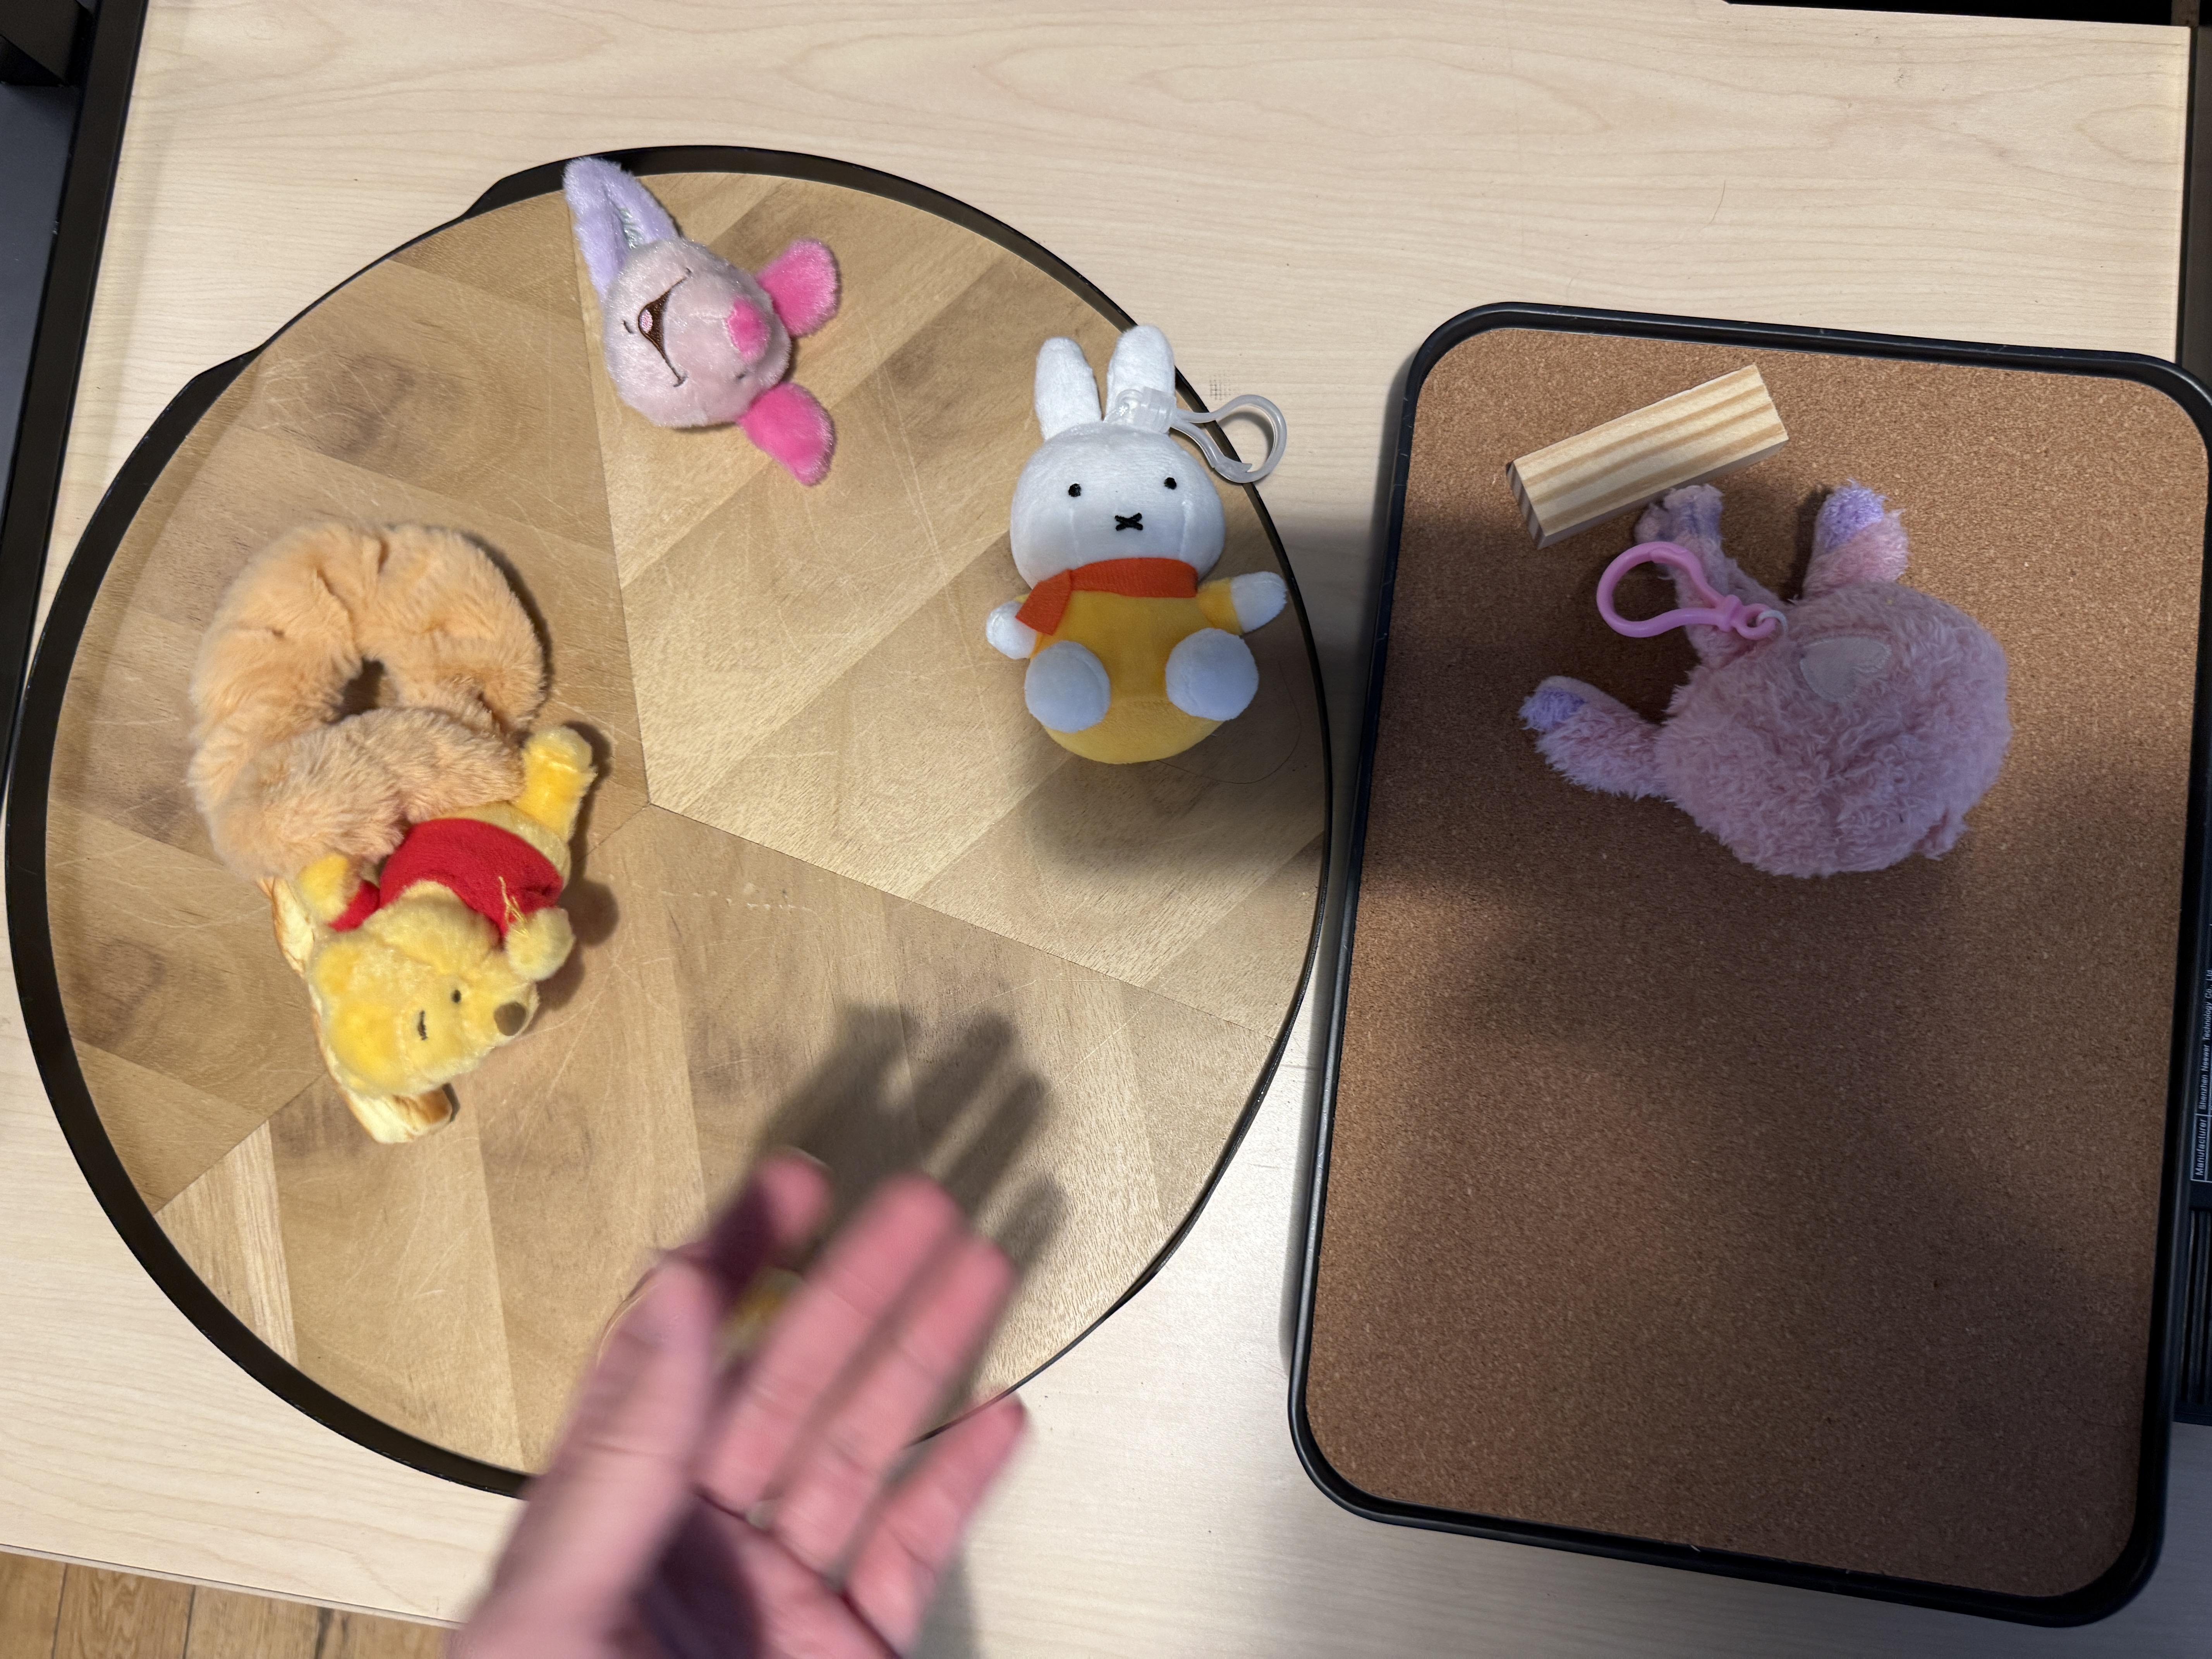block: (1515, 362, 1791, 538)
doll: (186, 519, 599, 1140), (1527, 483, 2013, 884), (991, 329, 1289, 763), (566, 157, 840, 484)
